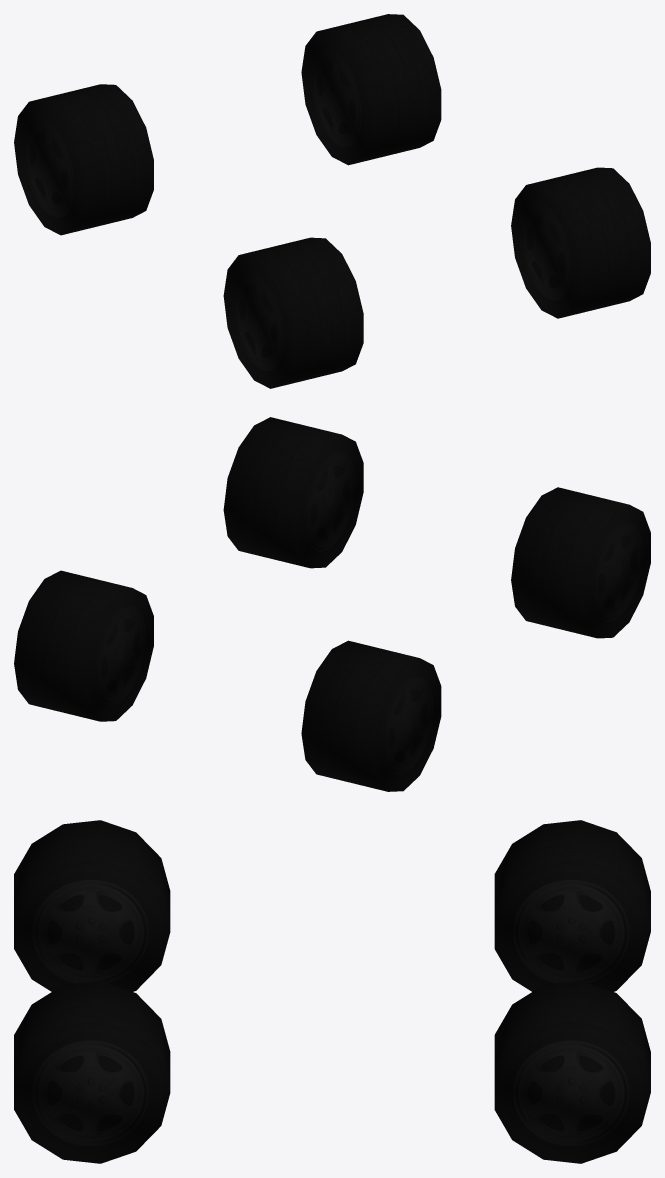
File: wheels.fbx
3 views of the same model, one above another, from view 1: azimuth 30°, elevation 25°; view 2: azimuth 150°, elevation 25°; view 3: azimuth 270°, elevation 25° (orthographic). The views are drawn at different scales.
Visible parts, largest first — view 1: wheels; view 2: wheels; view 3: wheels.
Boxes of the visible parts, left/top/right/bottom form: wheels: left=14, top=14, right=650, bottom=388; wheels: left=14, top=417, right=650, bottom=791; wheels: left=14, top=820, right=650, bottom=1163.
Bounding box in the file's own units: 14.95 × 4.96 × 20.03.
